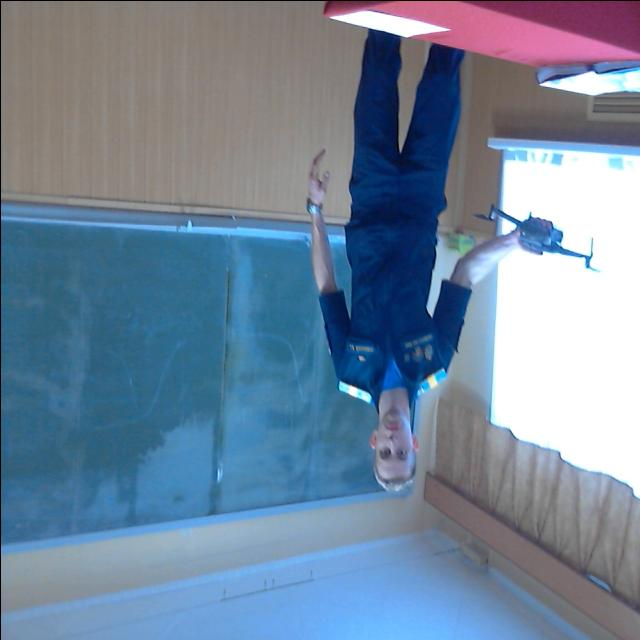drone: (463, 188, 605, 290)
